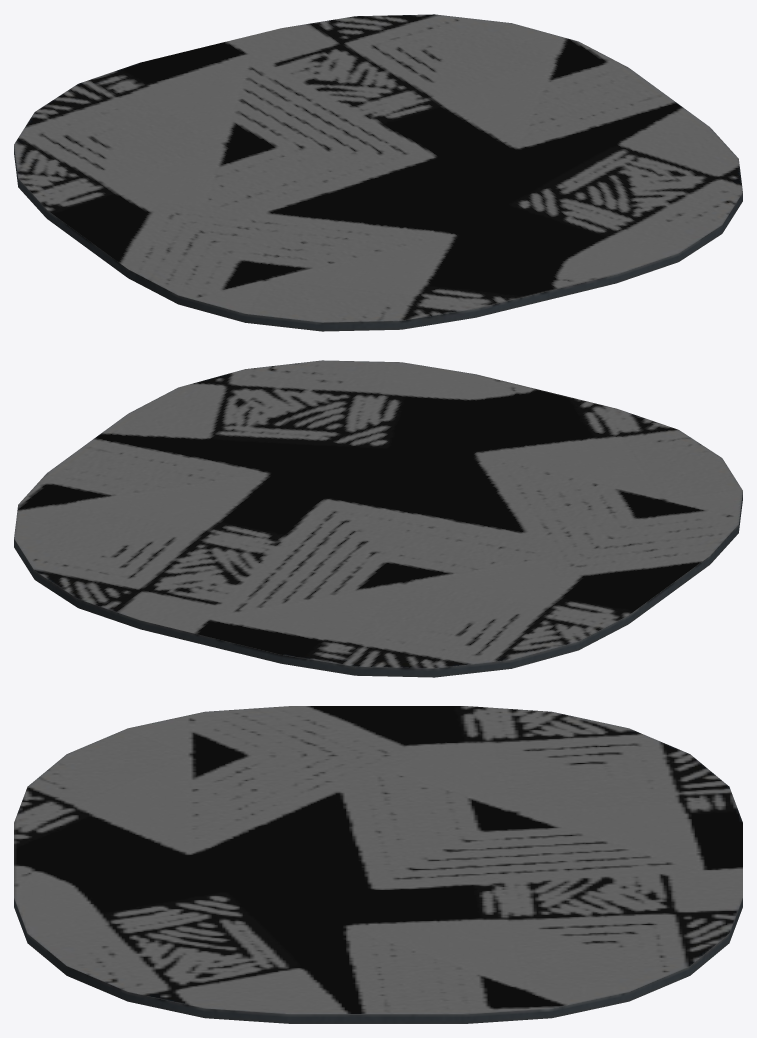
The model's file is Carpet-002.fbx.
3 views of the same model, one above another, from view 1: azimuth 30°, elevation 25°; view 2: azimuth 150°, elevation 25°; view 3: azimuth 270°, elevation 25° (orthographic). The views are drawn at different scales.
Visible parts, largest first — view 1: Plane.016; view 2: Plane.016; view 3: Plane.016.
Part boxes in pixels (<box>): Plane.016: <box>14,14,742,331</box>; Plane.016: <box>14,360,742,677</box>; Plane.016: <box>14,706,742,1023</box>.
Size of the model in its own units: 151 by 2.23 by 151.
1 material, 1 textured.
